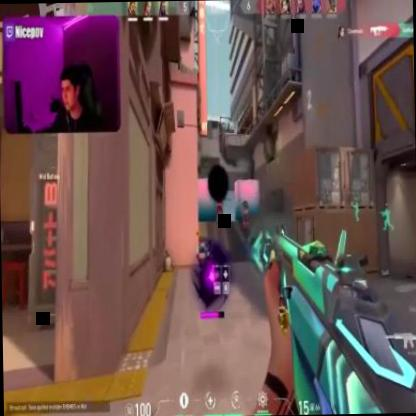enemy: (214, 192, 223, 222), (240, 199, 248, 229)
